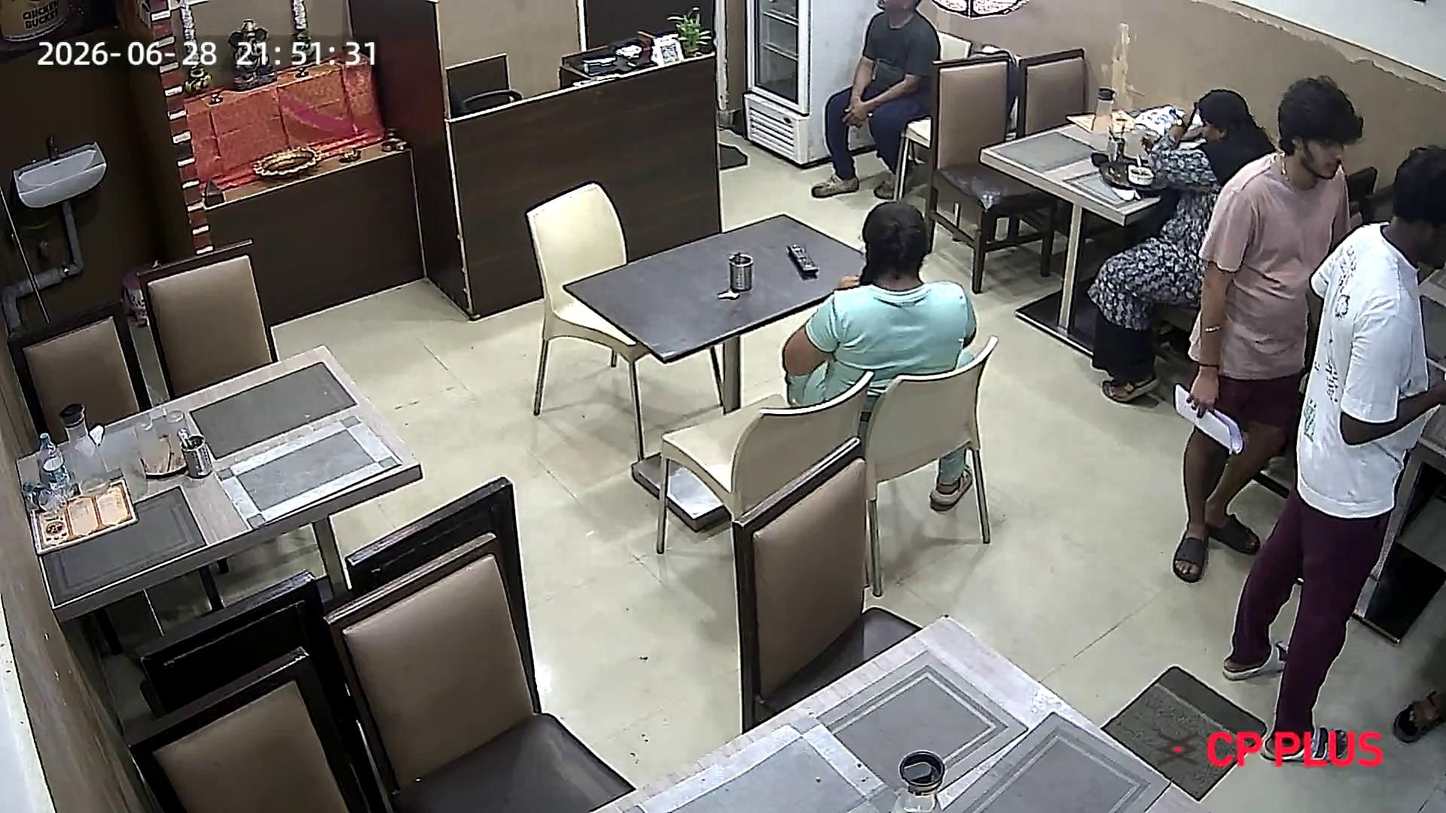clean: (638, 650, 1170, 803)
dirty: (12, 332, 426, 607)
occupied: (559, 210, 963, 427), (982, 65, 1268, 226)
